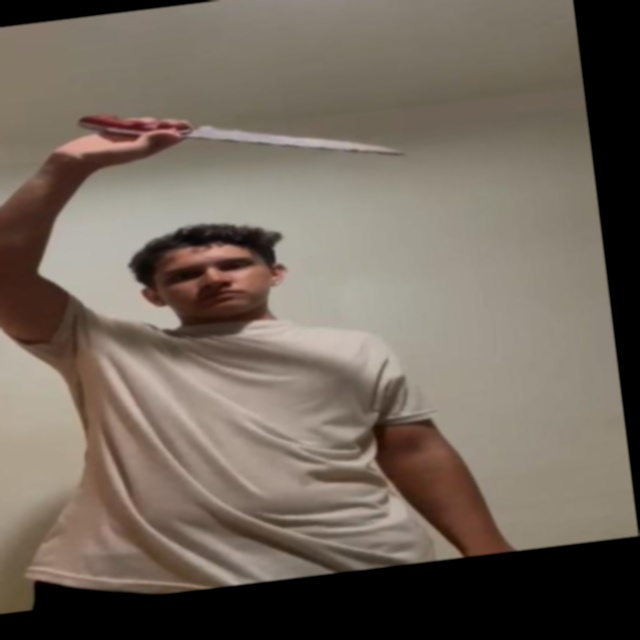Sharp-Object: (187, 98, 399, 180)
